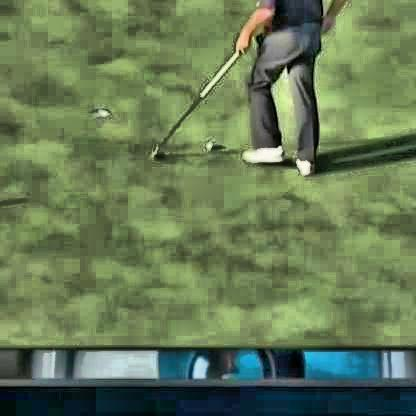golfball: (203, 137, 210, 147)
